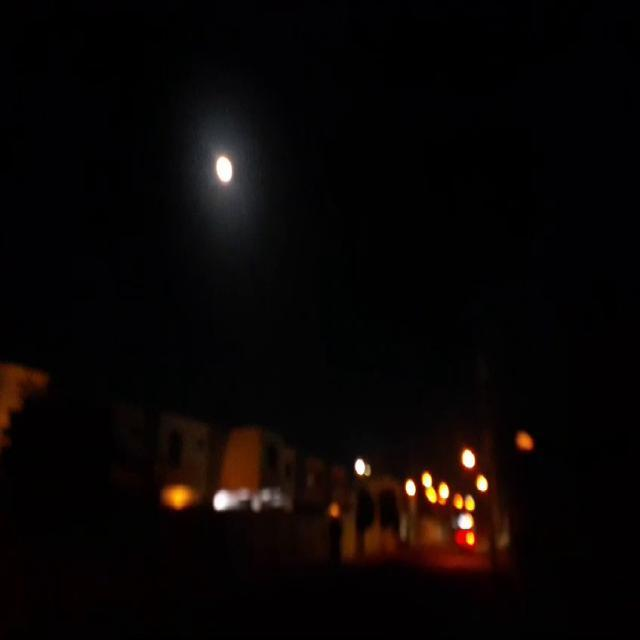moon: (215, 153, 235, 187)
